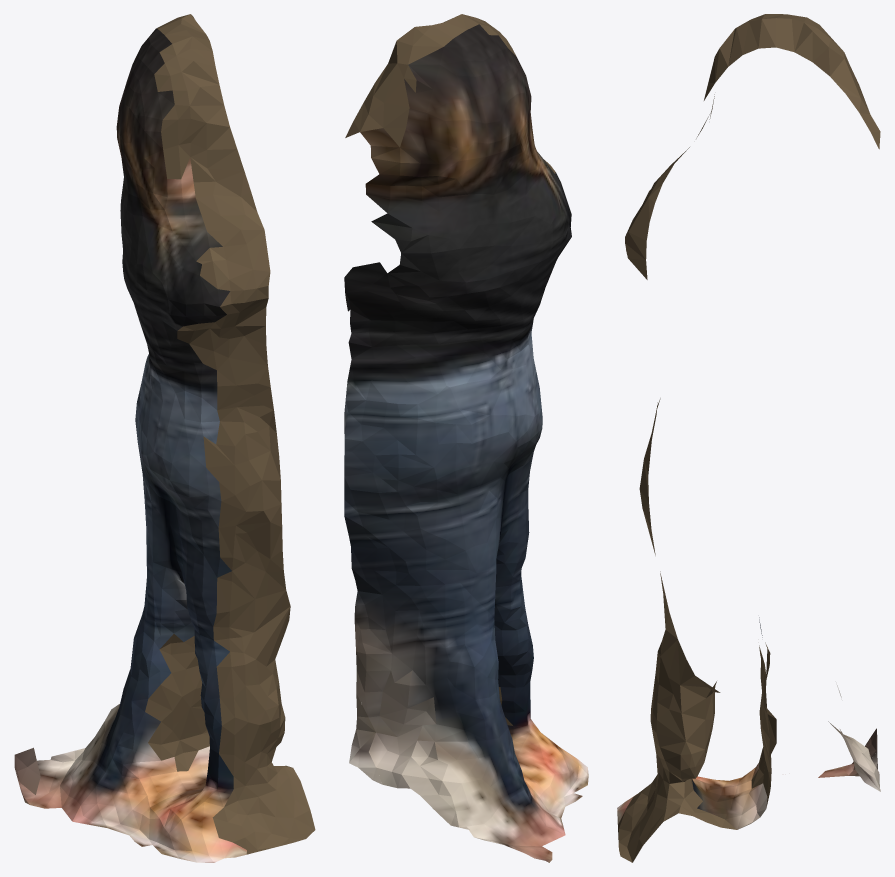
3 views of the same model, side by side, from view 1: azimuth 30°, elevation 25°; view 2: azimuth 150°, elevation 25°; view 3: azimuth 270°, elevation 25° (orthographic). The views are drawn at different scales.
Bounding box in the file's own units: 0.3818 × 1.48 × 0.4346.
Materials: 1 (1 with a texture image).
